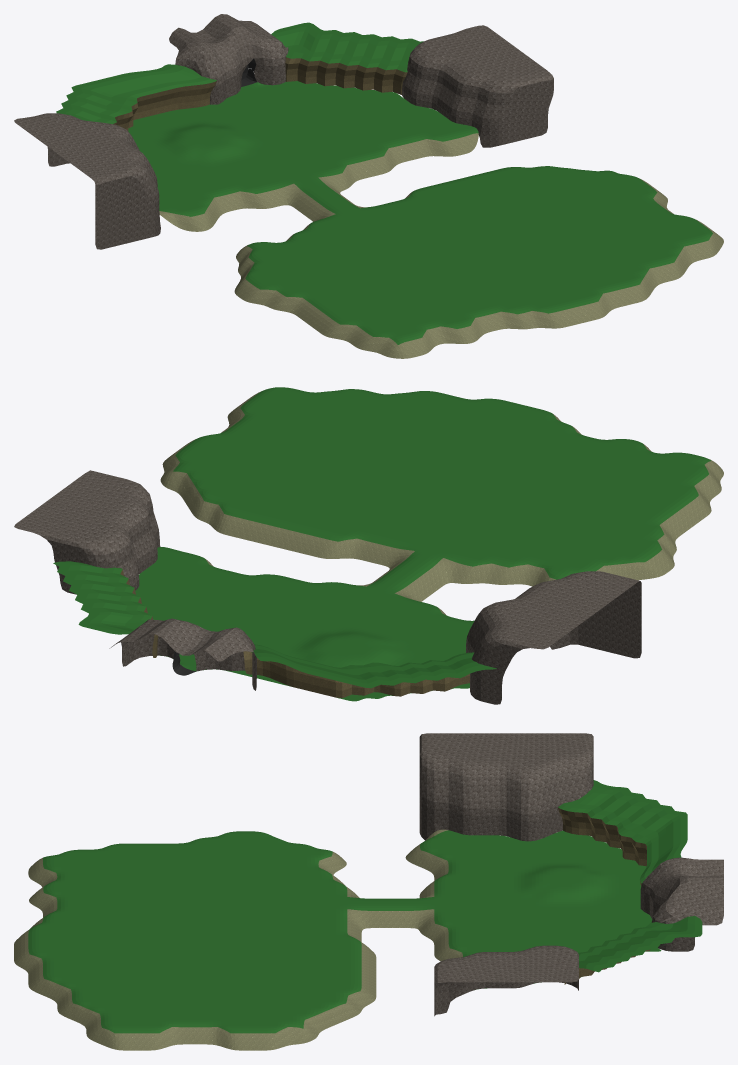
Rendered from overworld_03_13.fbx.
The picture shows the model from 3 angles, top to bottom: view 1: azimuth 30°, elevation 25°; view 2: azimuth 150°, elevation 25°; view 3: azimuth 270°, elevation 25°; orthographic projection. The views are drawn at different scales.
Parts seen in each view (by area): view 1: Overworld_terrain, Overworld_stonehills, Overworld_cliffs; view 2: Overworld_terrain, Overworld_stonehills, Overworld_cliffs; view 3: Overworld_terrain, Overworld_stonehills, Overworld_cliffs.
Part boxes in pixels (left/top/right/bottom): Overworld_terrain: left=128, top=68, right=723, bottom=358; Overworld_stonehills: left=14, top=14, right=553, bottom=249; Overworld_cliffs: left=56, top=22, right=423, bottom=130; Overworld_terrain: left=135, top=387, right=723, bottom=701; Overworld_stonehills: left=14, top=470, right=641, bottom=704; Overworld_cliffs: left=53, top=561, right=496, bottom=698; Overworld_terrain: left=14, top=829, right=661, bottom=1050; Overworld_stonehills: left=419, top=733, right=723, bottom=1016; Overworld_cliffs: left=558, top=780, right=702, bottom=984.
Bounding box in the file's own units: 8000 × 1163 × 9800.
